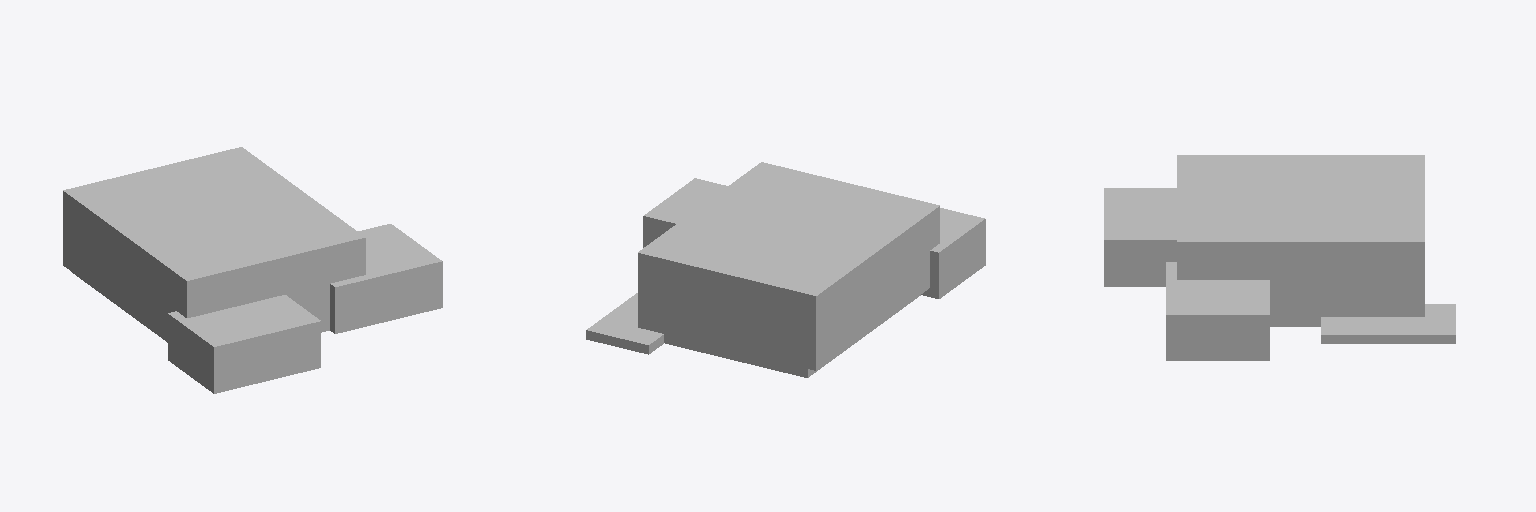
The model's file is Stone.obj.
3 views of the same model, side by side, from view 1: azimuth 30°, elevation 25°; view 2: azimuth 150°, elevation 25°; view 3: azimuth 270°, elevation 25° (orthographic).
Parts seen in each view (by area): view 1: object 1; view 2: object 1; view 3: object 1.
Part boxes in pixels (x1,y1,x2,y2): object 1: (63,147,442,393); object 1: (586,162,985,377); object 1: (1104,155,1455,360).
Bounding box in the file's own units: 2.9 × 0.9 × 3.4.